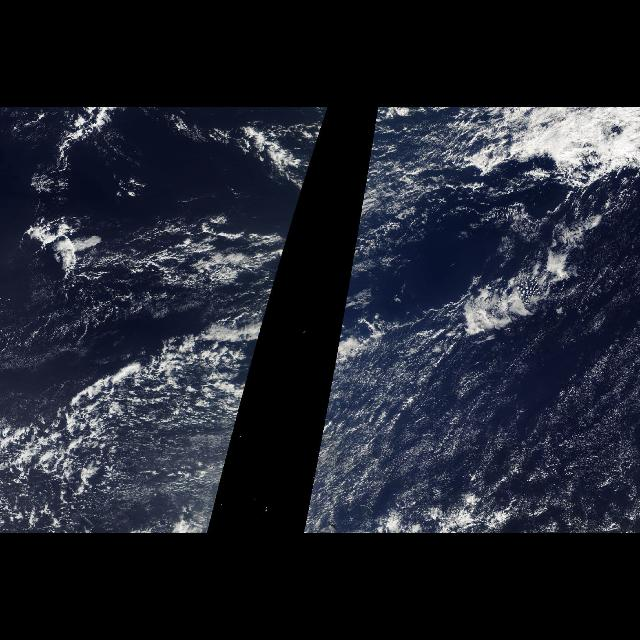Gravel: (20, 223, 262, 297), (24, 412, 111, 524)
Sugar: (371, 277, 639, 533)
